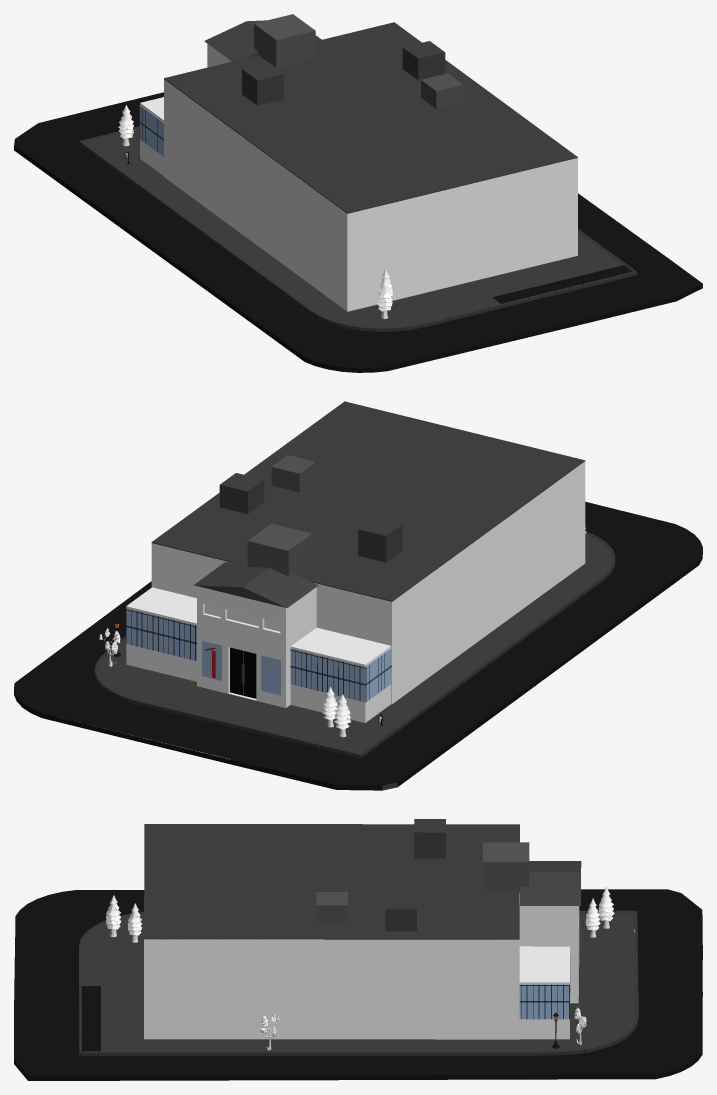
The model's file is Geb1-transformed.glb.
The picture shows the model from 3 angles, top to bottom: view 1: azimuth 30°, elevation 25°; view 2: azimuth 150°, elevation 25°; view 3: azimuth 270°, elevation 25°; orthographic projection. The views are drawn at different scales.
Visible parts, largest first — view 1: Circle.031, Street FLF.002; view 2: Circle.031, Street FLF.002; view 3: Circle.031, Street FLF.002, Tree.011.
Boxes of the visible parts, bbox=[...] form: Circle.031: bbox=[124, 14, 577, 318]; Street FLF.002: bbox=[14, 92, 702, 372]; Circle.031: bbox=[113, 401, 586, 725]; Street FLF.002: bbox=[14, 501, 702, 790]; Circle.031: bbox=[106, 819, 581, 1050]; Street FLF.002: bbox=[14, 889, 702, 1080]; Tree.011: bbox=[598, 887, 614, 928].
Size of the model in its own units: 27.93 by 9.56 by 43.52.
Materials: 17 (2 with a texture image).
